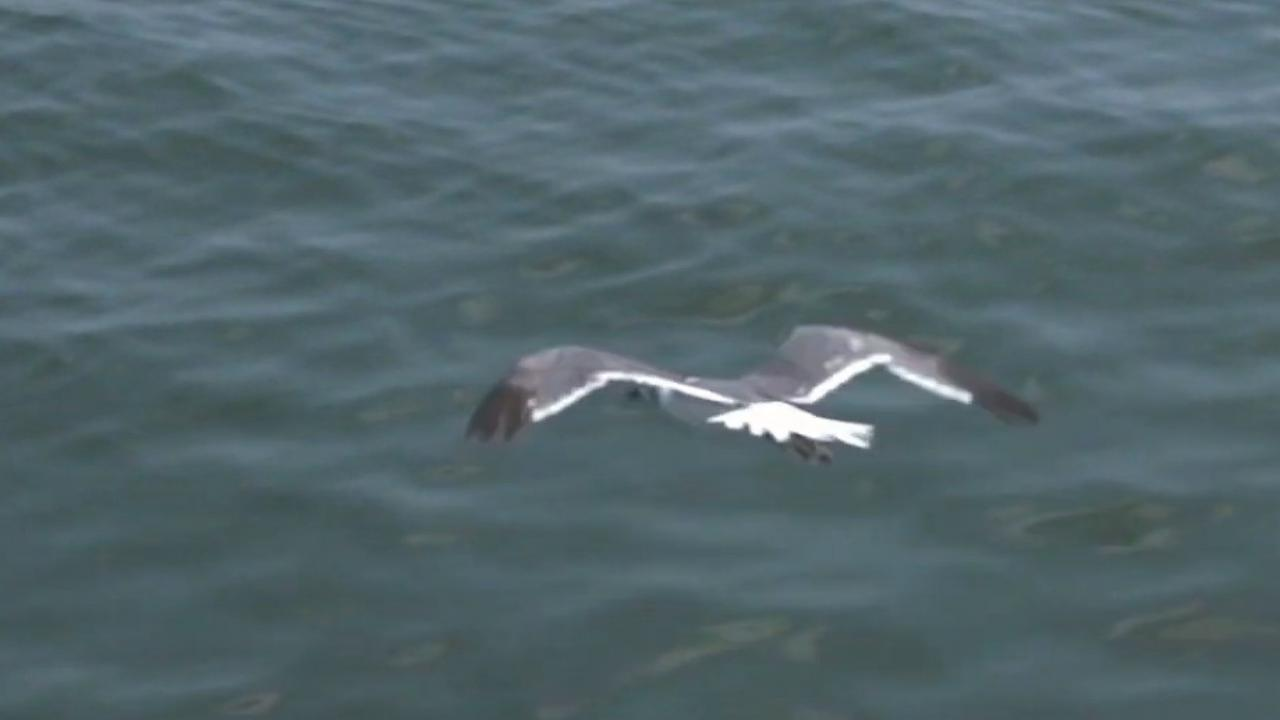Bird: (454, 315, 1052, 476)
